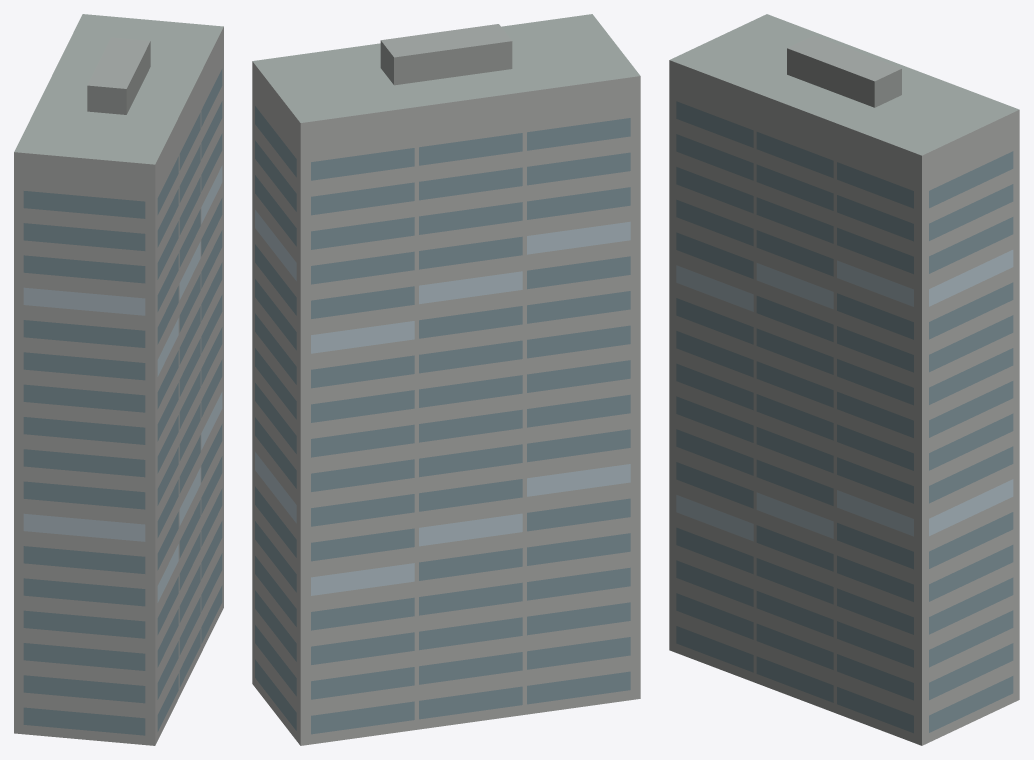
Rendered from fallback-godeok-raemian-hillstate-completion-213.glb.
3 views of the same model, side by side, from view 1: azimuth 30°, elevation 25°; view 2: azimuth 150°, elevation 25°; view 3: azimuth 270°, elevation 25° (orthographic). The views are drawn at different scales.
Parts seen in each view (by area): view 1: fallback-godeok-raemian-hillstate-completion-213; view 2: fallback-godeok-raemian-hillstate-completion-213; view 3: fallback-godeok-raemian-hillstate-completion-213.
Boxes of the visible parts, x1,y1,x2,y2 form: fallback-godeok-raemian-hillstate-completion-213: (14, 14, 223, 745); fallback-godeok-raemian-hillstate-completion-213: (252, 14, 640, 745); fallback-godeok-raemian-hillstate-completion-213: (669, 14, 1019, 745).
Bounding box in the file's own units: 27.6 × 56 × 28.83.
